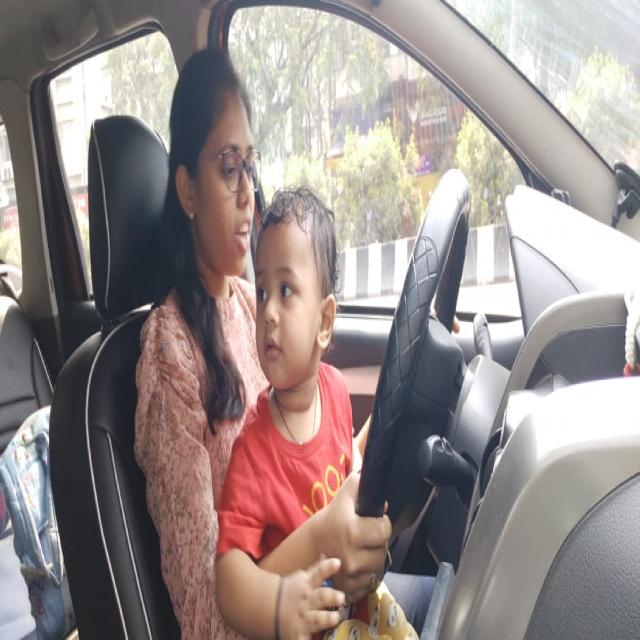child: (253, 190, 339, 388)
person: (166, 47, 257, 277)
